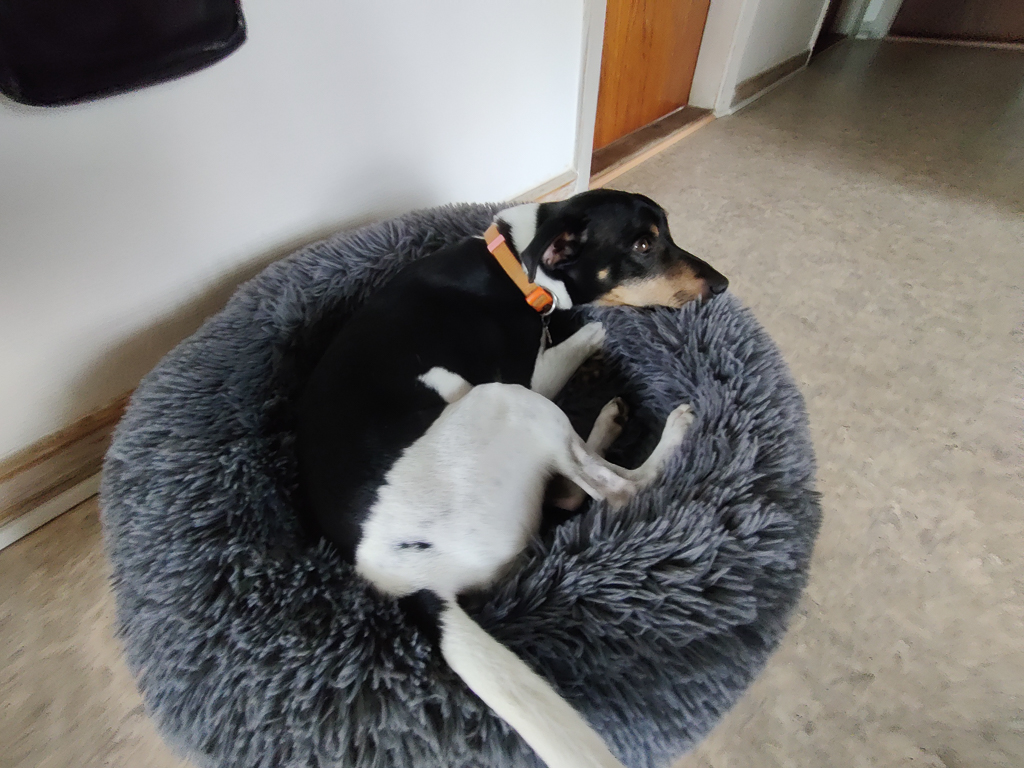Dog: (225, 178, 755, 768)
